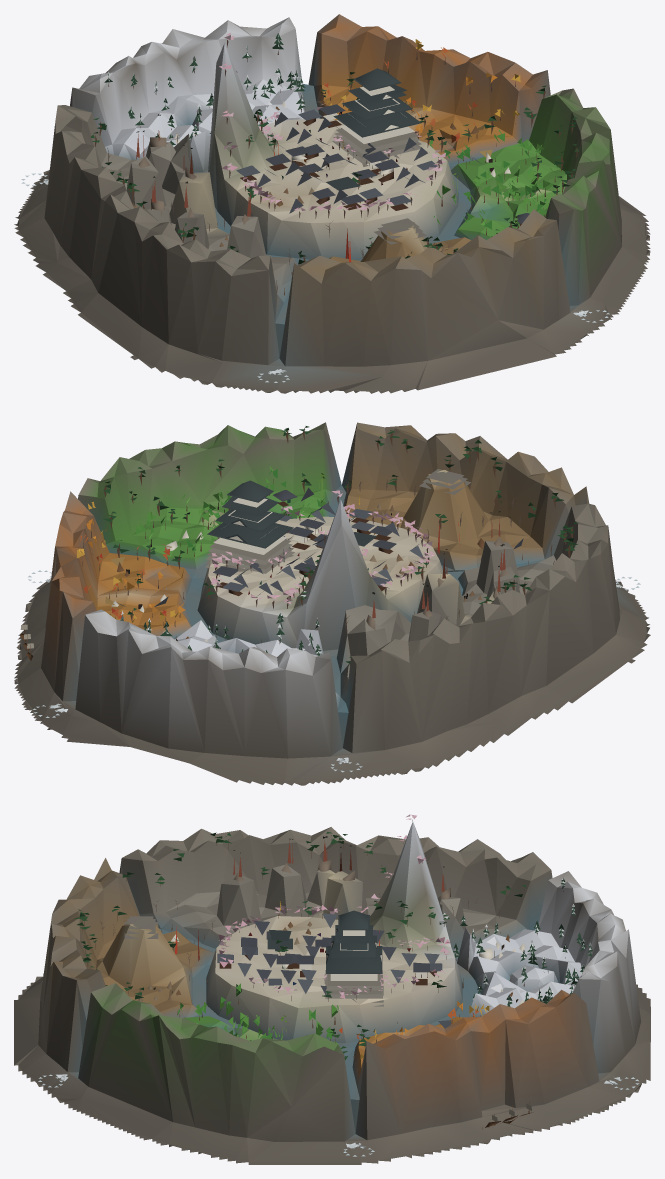
3 renders of one model, top to bottom at view 1: azimuth 30°, elevation 25°; view 2: azimuth 150°, elevation 25°; view 3: azimuth 270°, elevation 25°, orthographic. The views are drawn at different scales.
Parts seen in each view (by area): view 1: BASE, VILLE_2, VILLE_3; view 2: BASE, VILLE_2, VILLE_3; view 3: BASE, VILLE_2, VILLE_3.
Part boxes in pixels (bbox=[...]): BASE: bbox=[14, 14, 650, 393]; VILLE_2: bbox=[91, 67, 579, 295]; VILLE_3: bbox=[102, 56, 562, 248]; BASE: bbox=[14, 422, 650, 785]; VILLE_2: bbox=[20, 436, 575, 681]; VILLE_3: bbox=[83, 479, 536, 654]; BASE: bbox=[14, 814, 650, 1164]; VILLE_2: bbox=[74, 831, 572, 1129]; VILLE_3: bbox=[112, 863, 592, 1049].
Bounding box in the file's own units: 71.43 × 25.63 × 76.03.
